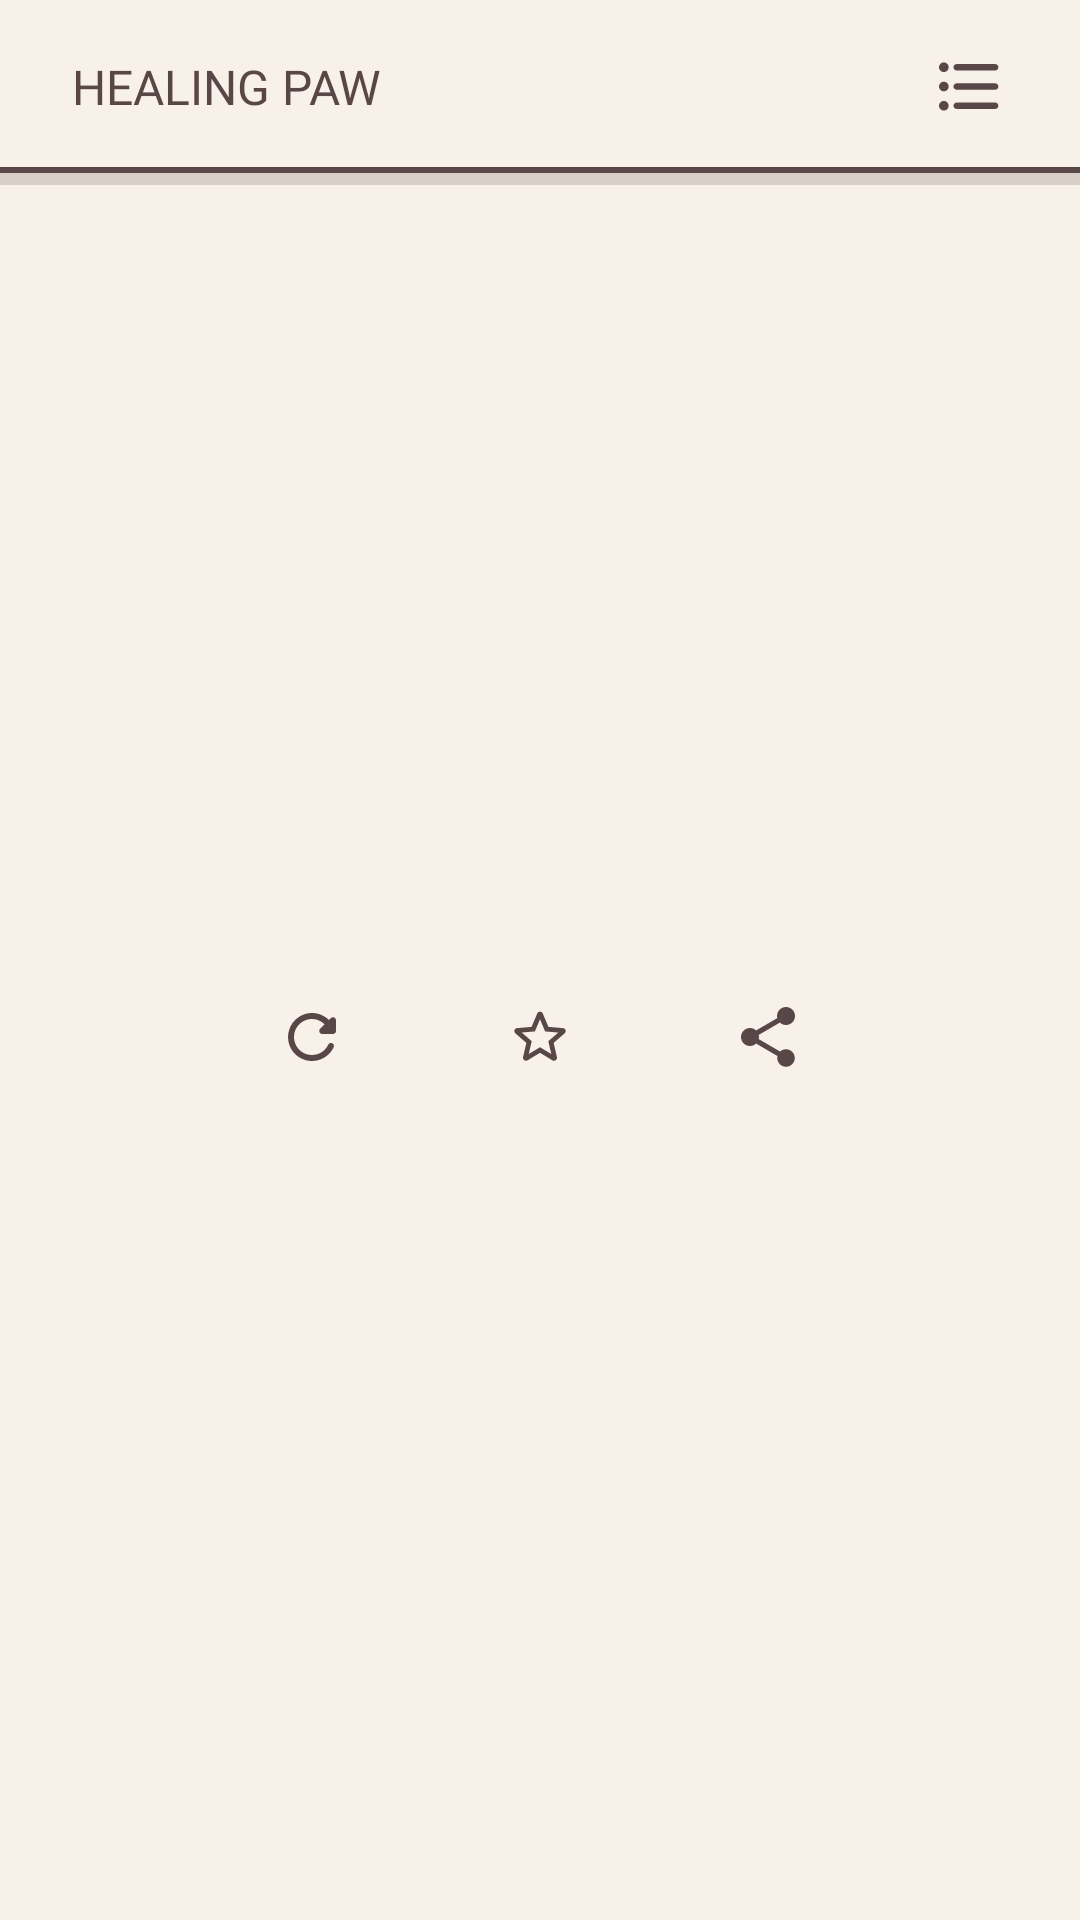

Where icons sit on this 1080 x 1920 app screen, as (x1, y1, x2, y2):
refresh: (288, 1013, 336, 1061)
share-image: (741, 1007, 795, 1067)
star: (514, 1011, 566, 1061)
